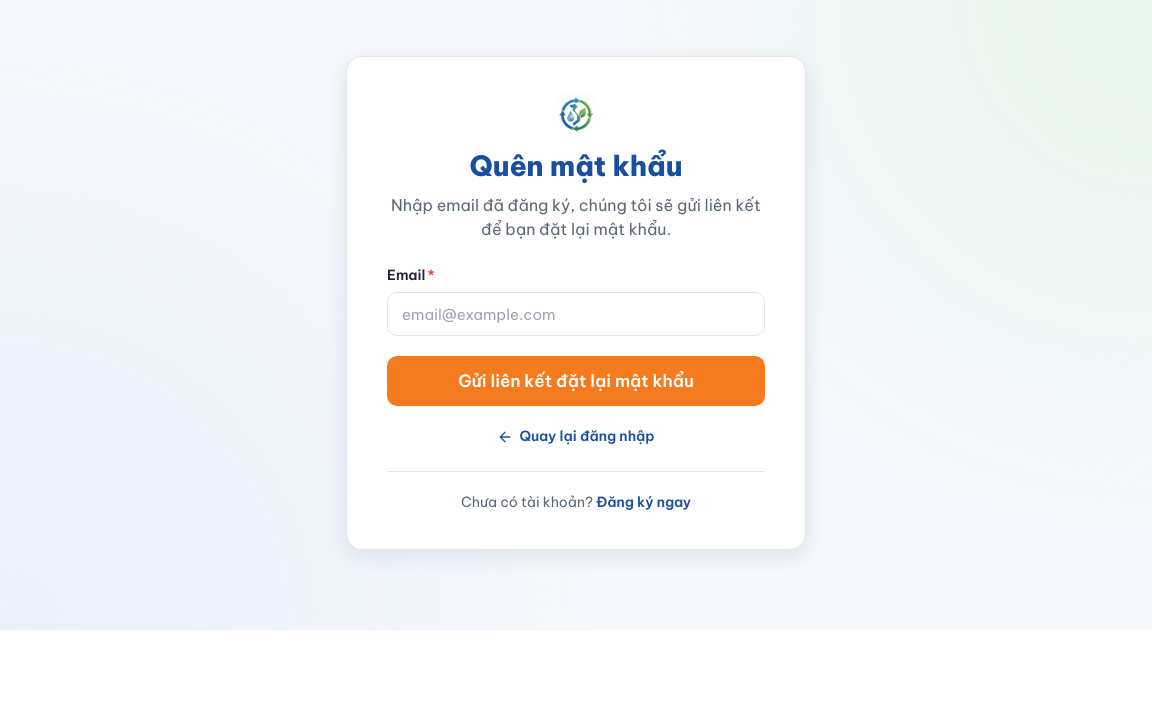
Scenario: ForgotPasswordPage › sends the request and shows a generic confirmation
Type " an@example.com " into the field labelled "Email*".
click(576, 314); type(" an@example.com ")  # box [387,292,765,336]
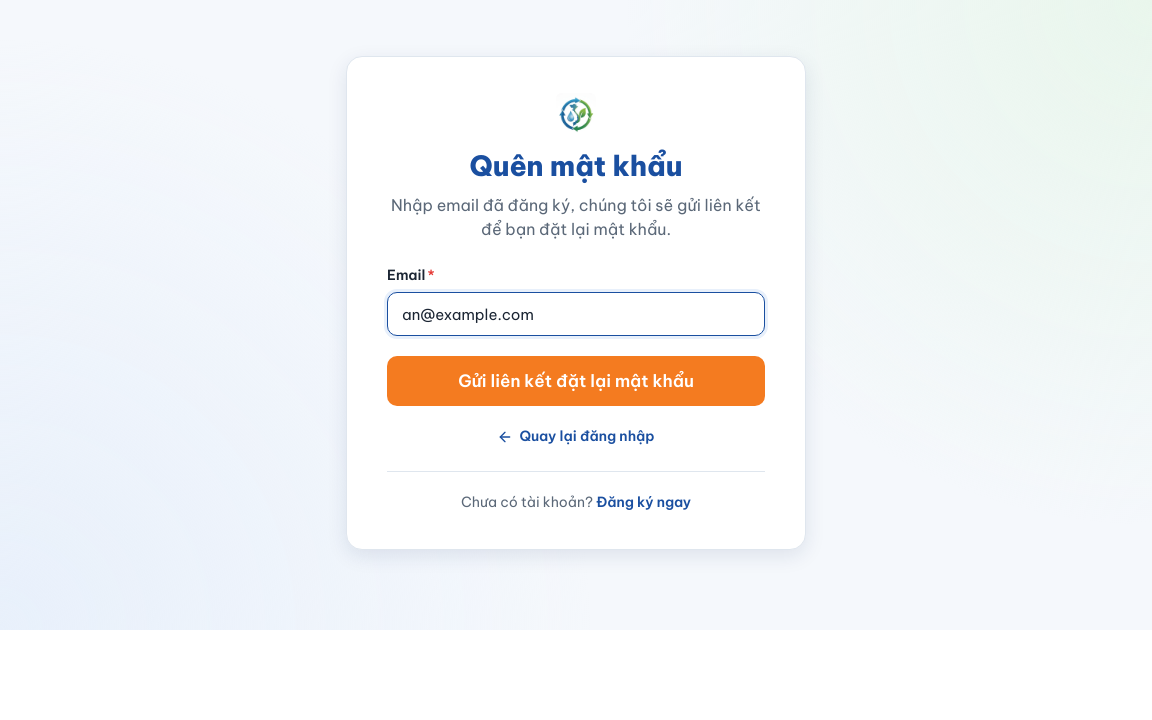
Click the button "Gửi liên kết đặt lại mật khẩu".
click(576, 381)  # box [387,356,765,406]
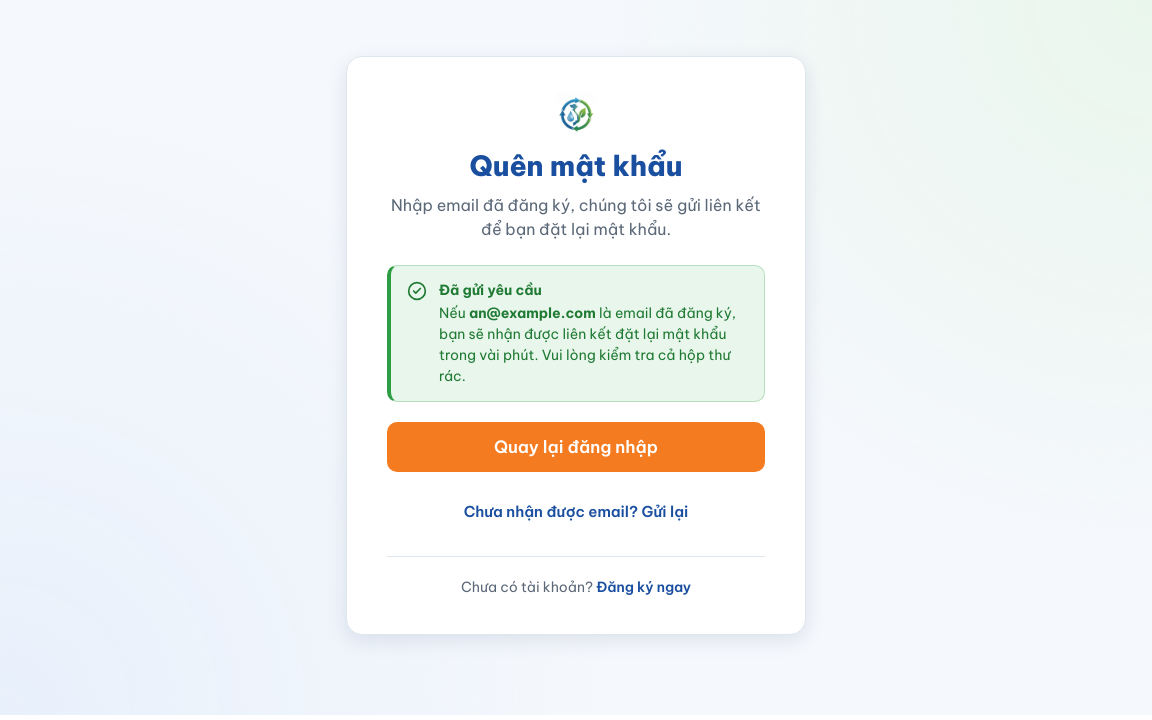
Expected: the text "Đã gửi yêu cầu" is shown, [439,281,542,299]
Expected: the text "an@example.com" is shown, [469,304,596,322]
Click the button "Chưa nhận được email? Gửi lại".
click(576, 512)  # box [387,492,765,532]
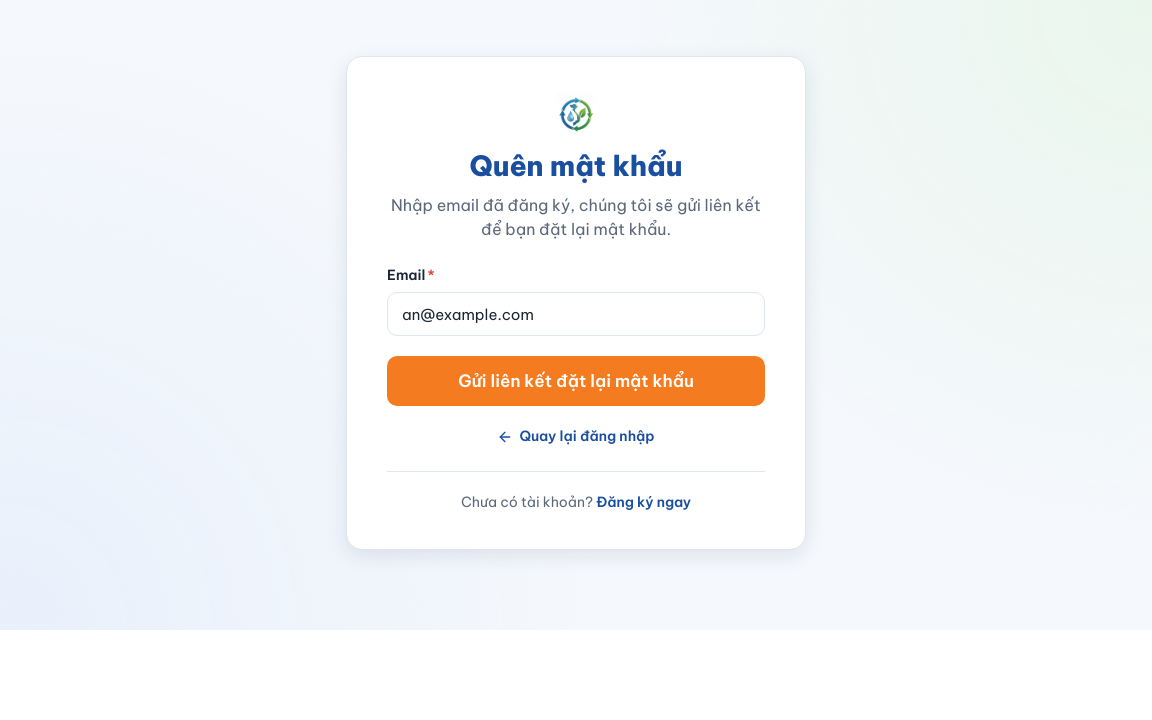
Expected: the field labelled "Email*" is shown, [387,292,765,336]
